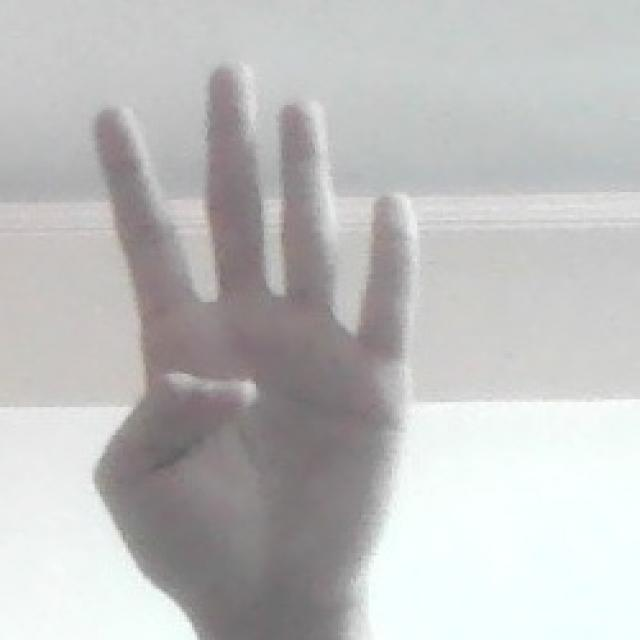Numeric-4: (94, 59, 420, 598)
